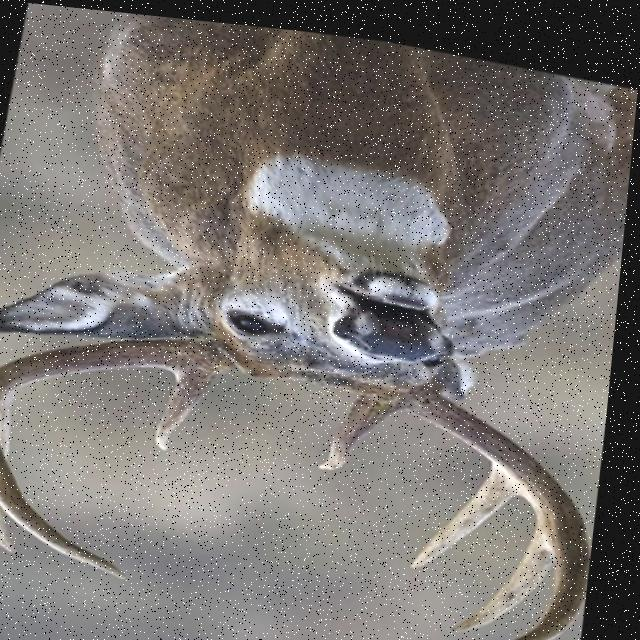L-F: (370, 376, 599, 640)
L-G1: (326, 387, 410, 465)
L-G2: (420, 450, 531, 559)
L-G3: (460, 503, 565, 623)
R-F: (0, 425, 138, 576), (0, 334, 251, 417)
R-G1: (161, 364, 228, 446)
